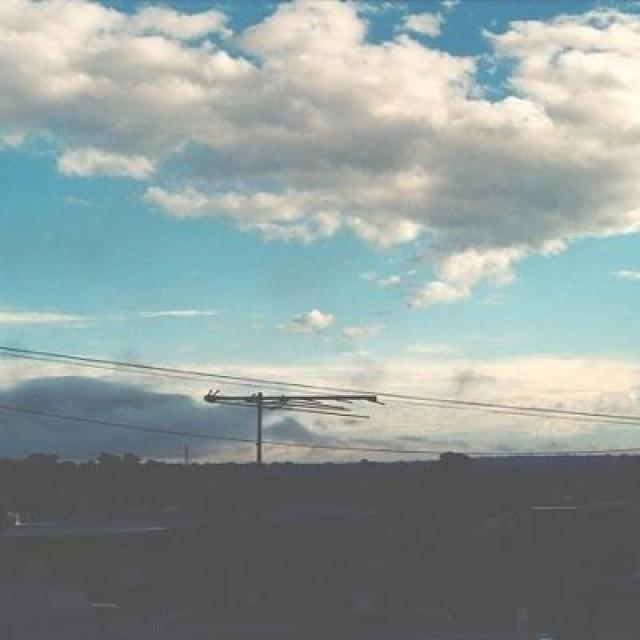Sc: (1, 1, 639, 294)
